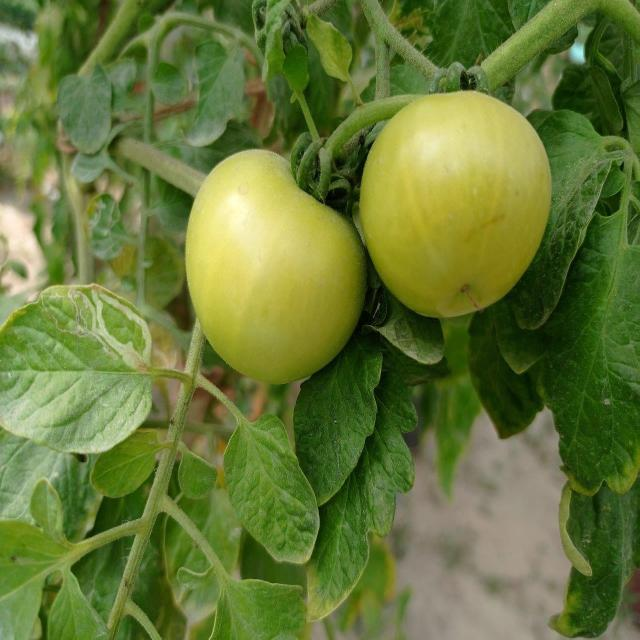Unripe: (358, 90, 552, 324), (188, 149, 362, 384)
